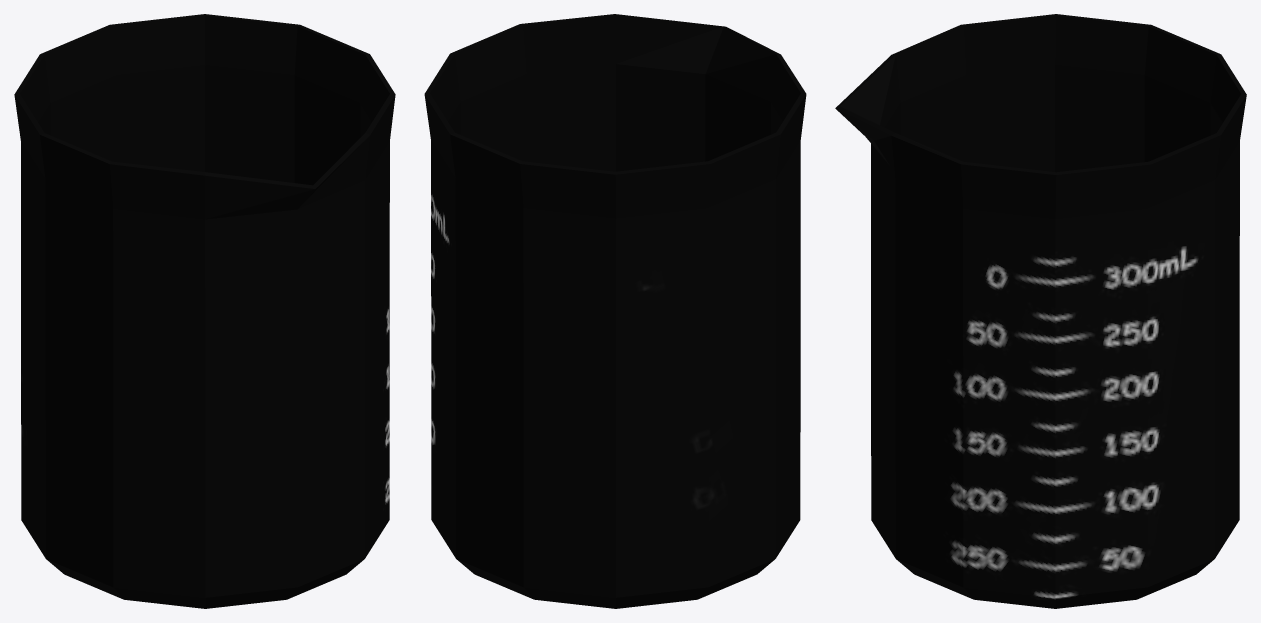
File: a6fAmpBmWHM.glb
3 views of the same model, side by side, from view 1: azimuth 30°, elevation 25°; view 2: azimuth 150°, elevation 25°; view 3: azimuth 270°, elevation 25° (orthographic).
Parts seen in each view (by area): view 1: Node; view 2: Node; view 3: Node.
Part boxes in pixels (x1,y1,x2,y2): Node: (14, 14, 395, 608); Node: (424, 14, 806, 608); Node: (835, 14, 1246, 608).
Bounding box in the file's own units: 0.7737 × 1 × 0.8353.
Materials: 1 (1 with a texture image).
